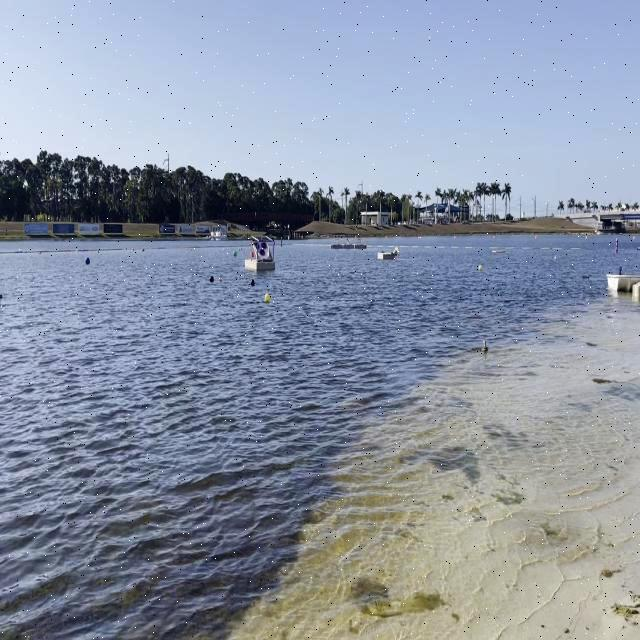buoy: (264, 292, 270, 302), (85, 256, 91, 264), (209, 275, 214, 283), (478, 264, 483, 272), (251, 278, 254, 286)
